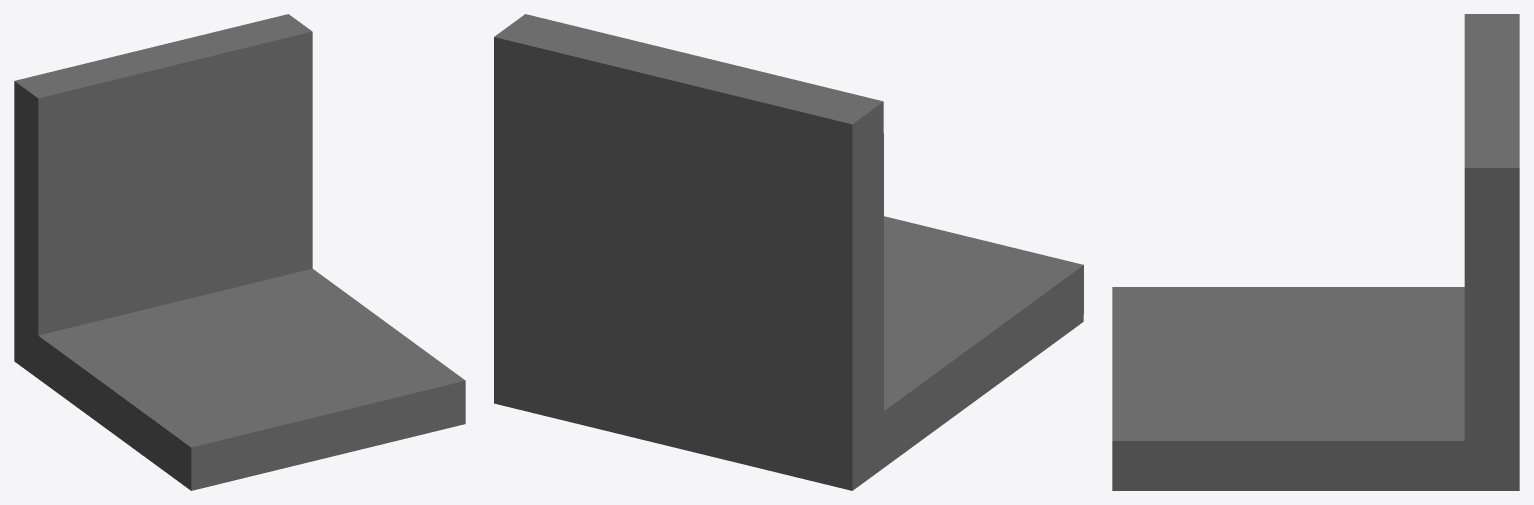
The model's file is Itr_Officechair_Seat_03.FBX.
3 renders of one model, left to right at view 1: azimuth 30°, elevation 25°; view 2: azimuth 150°, elevation 25°; view 3: azimuth 270°, elevation 25°, orthographic. The views are drawn at different scales.
Parts seen in each view (by area): view 1: Itr_Officechair_Seat_03; view 2: Itr_Officechair_Seat_03; view 3: Itr_Officechair_Seat_03.
Boxes of the visible parts, x1=… form: Itr_Officechair_Seat_03: x1=14, y1=14, x2=465, y2=490; Itr_Officechair_Seat_03: x1=494, y1=14, x2=1083, y2=490; Itr_Officechair_Seat_03: x1=1112, y1=14, x2=1519, y2=490.
Bounding box in the file's own units: 25.33 × 24.73 × 28.29.
